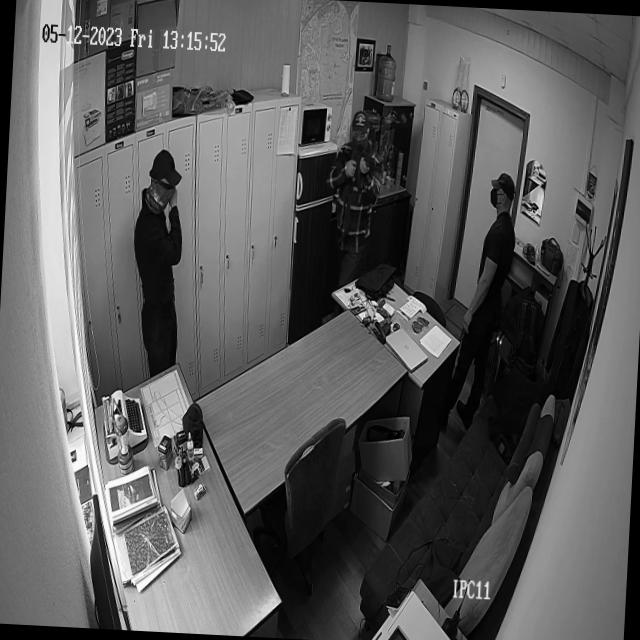gun: (350, 150, 384, 187)
person: (124, 152, 208, 372), (462, 172, 522, 414)
person with a gun: (326, 104, 395, 308)
